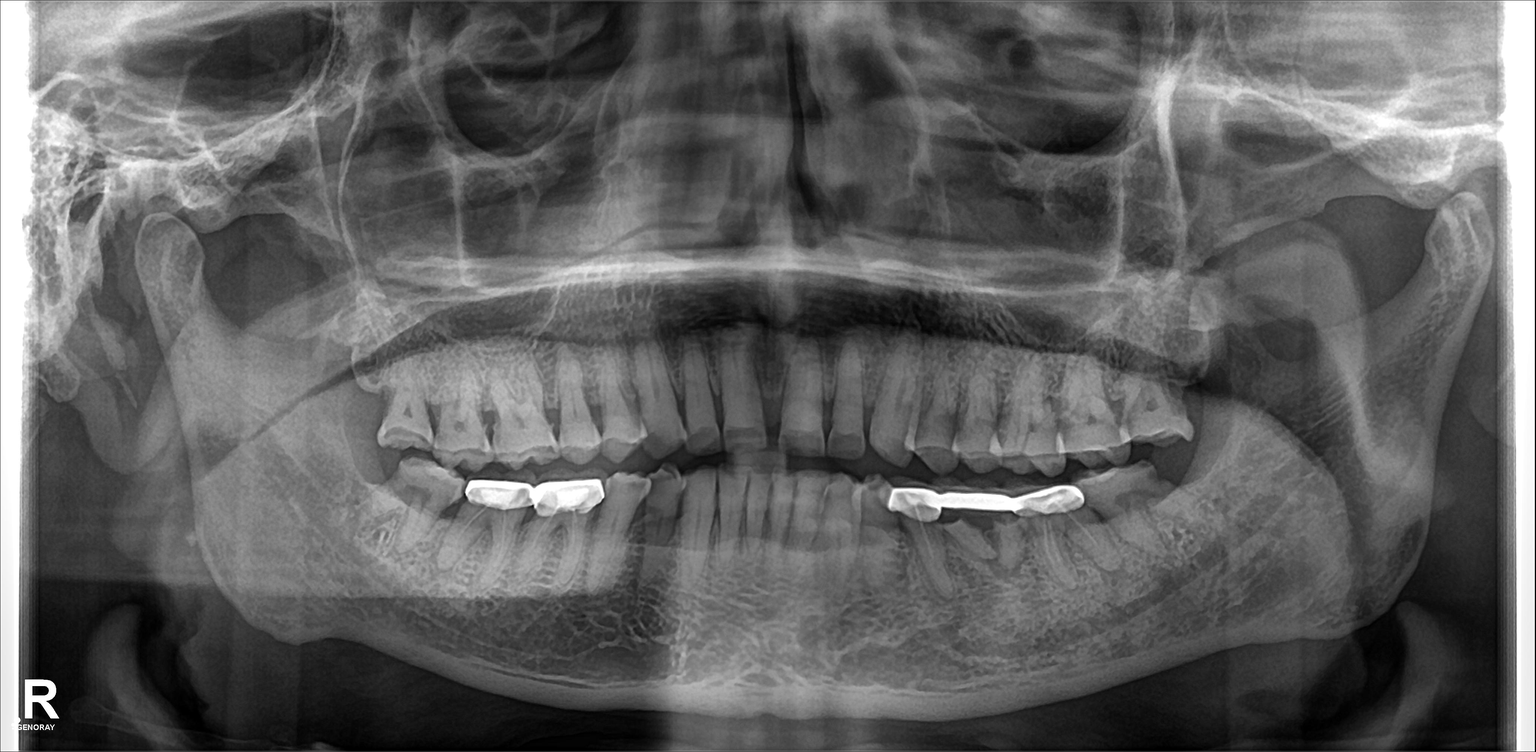Dental Caries: (477, 404, 502, 442), (1117, 493, 1155, 511)
Endodontically Treated Tooth: (1021, 486, 1114, 600), (529, 471, 599, 597), (466, 473, 524, 594), (894, 478, 948, 606)
Missing Tooth: (335, 339, 383, 457)
